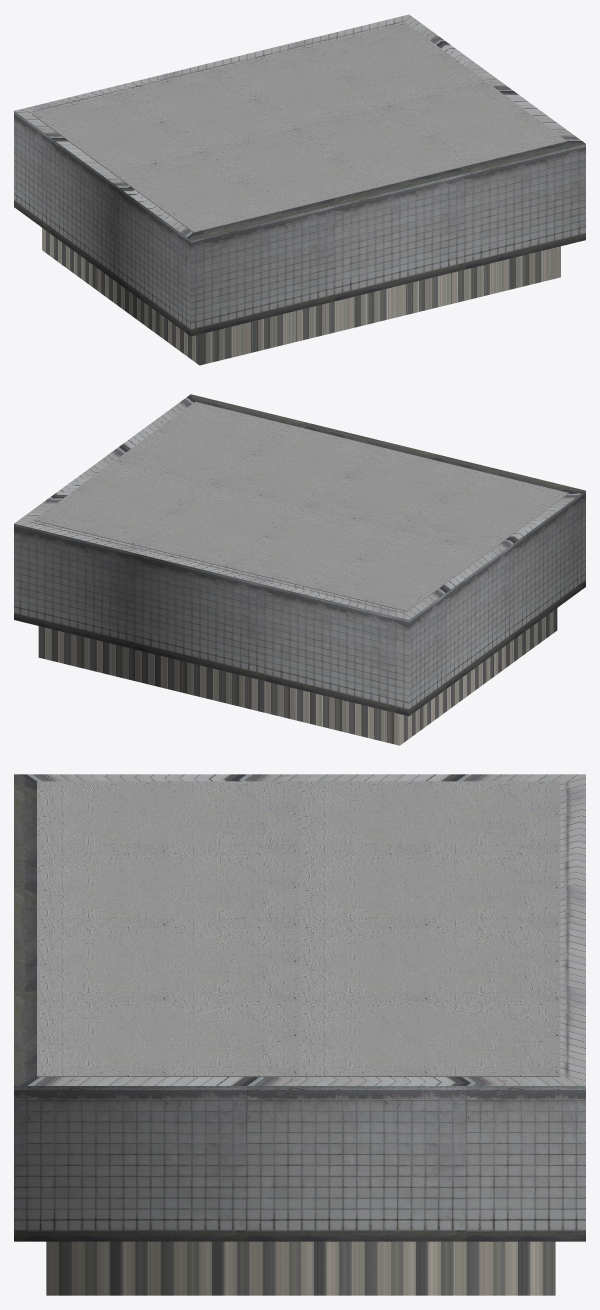
File: Swimming_Pool.glb
3 views of the same model, one above another, from view 1: azimuth 30°, elevation 25°; view 2: azimuth 150°, elevation 25°; view 3: azimuth 270°, elevation 25° (orthographic). The views are drawn at different scales.
Visible parts, largest first — view 1: Swimming_Pool; view 2: Swimming_Pool; view 3: Swimming_Pool.
Part boxes in pixels (left/top/right/bottom): Swimming_Pool: left=14, top=14, right=585, bottom=365; Swimming_Pool: left=14, top=394, right=585, bottom=745; Swimming_Pool: left=14, top=774, right=585, bottom=1295.
Size of the model in its own units: 184 by 61.29 by 143.
Materials: 20 (19 with a texture image).
